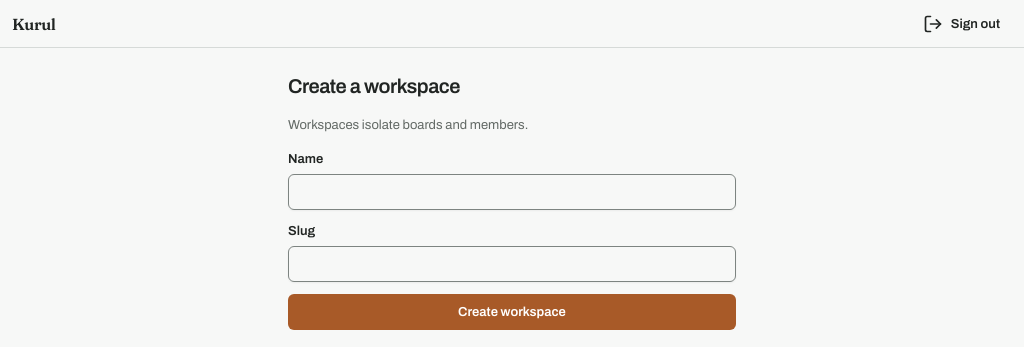
Test case: NewWorkspacePage › derives a URL-safe slug from the name as it is typed
Type "  Steppe Collective!!  " into the field labelled "Name" at (512, 192), box [288,174,736,210]
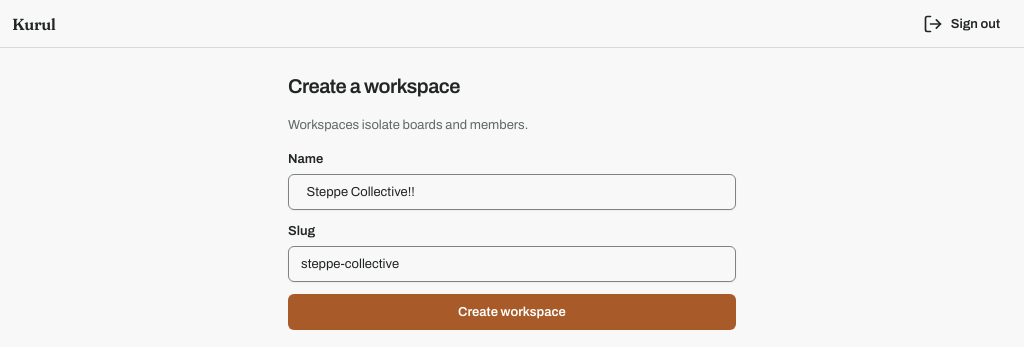
Expected: the field labelled "Slug" holds "steppe-collective", [288,246,736,282]
